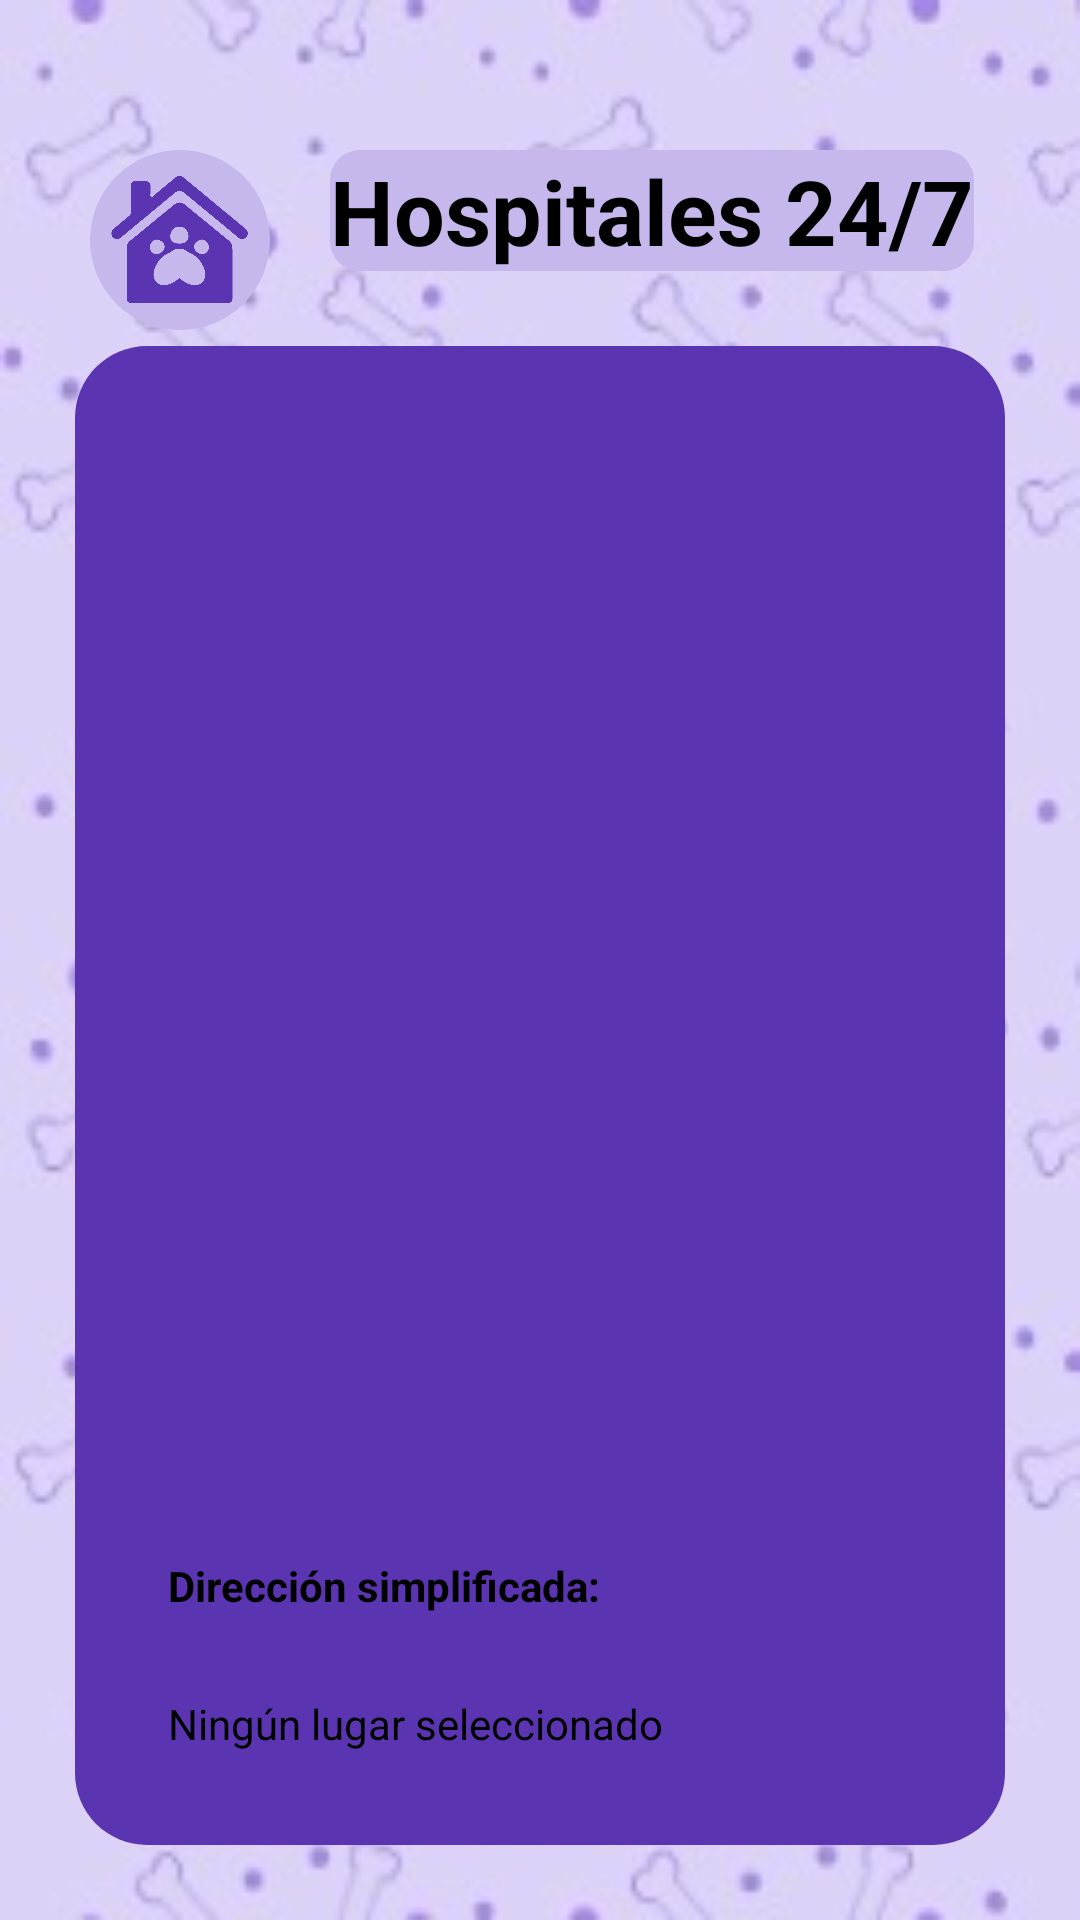

Named icons in this screenshot (1080×1920) and their bounding boxes, [x1=x1, y1=y1, x2=x2, y2=y2]:
Volver al inicio: [x1=90, y1=150, x2=270, y2=330]
